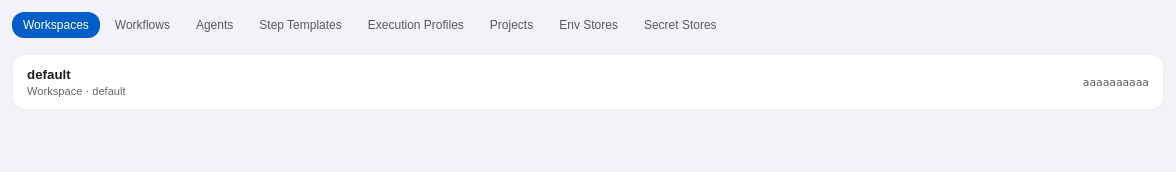
ExpertResources › clears stale rows when switching kinds fails and renders an explicit error
Expected: the button with aria-label "打开 Workspace default" is shown, [13,55,1163,109]
Click the tab "Workflows": (142, 25) [104,12,181,38]
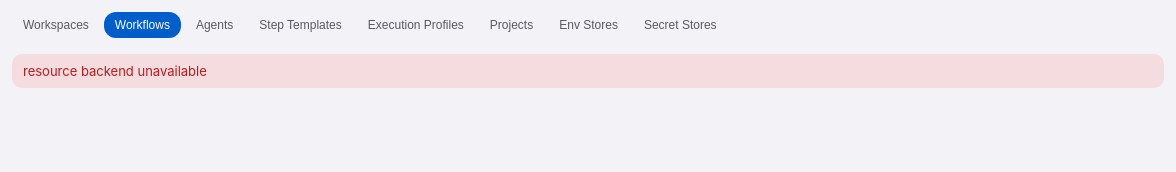
Expected: the message reads "resource backend unavailable", [23,63,207,79]
